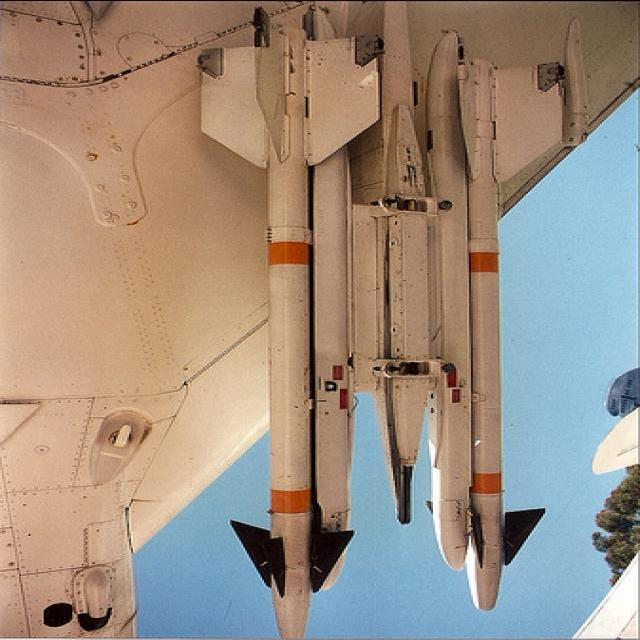missile: (195, 20, 390, 639), (260, 25, 316, 640), (465, 52, 507, 620)
